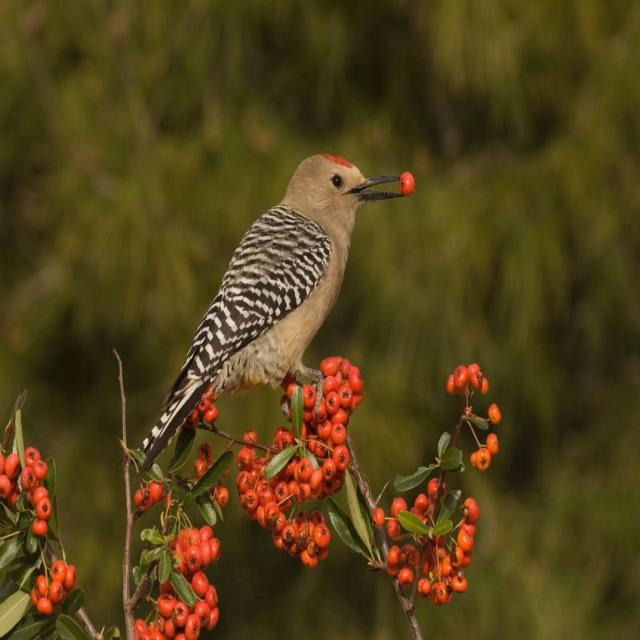woodpecker: (141, 155, 402, 468)
